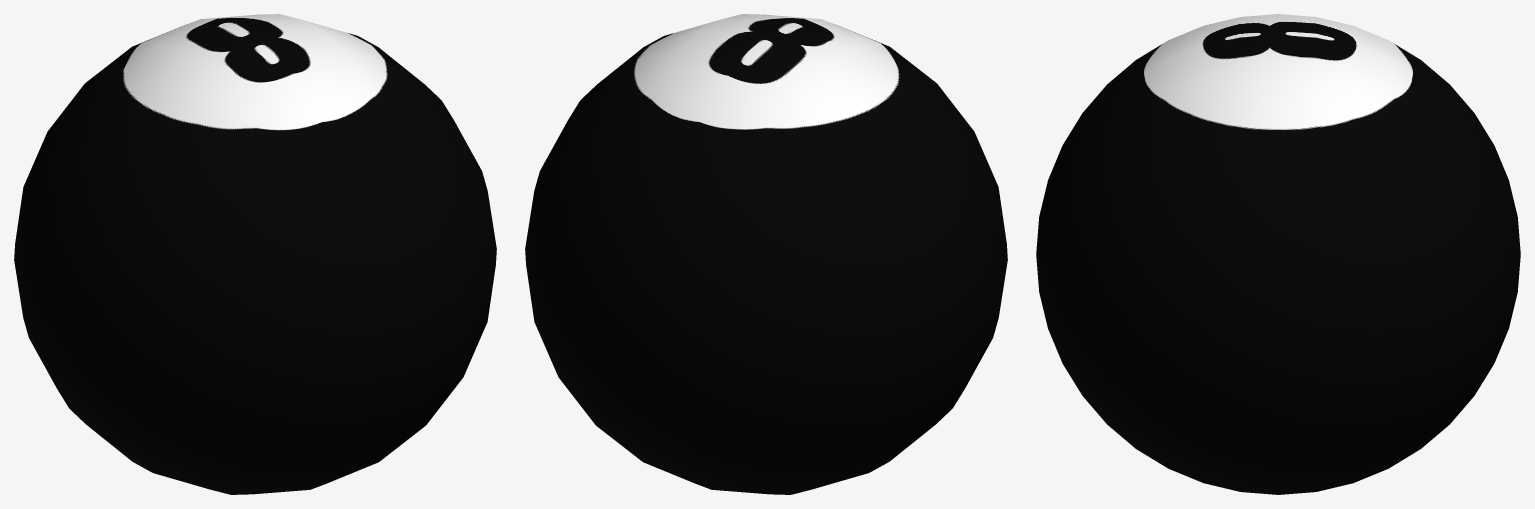
File: ball8.fbx
3 views of the same model, side by side, from view 1: azimuth 30°, elevation 25°; view 2: azimuth 150°, elevation 25°; view 3: azimuth 270°, elevation 25° (orthographic).
Visible parts, largest first — view 1: pSphere1; view 2: pSphere1; view 3: pSphere1.
Part boxes in pixels (<box>): pSphere1: <box>14,14,496,494</box>; pSphere1: <box>525,14,1007,494</box>; pSphere1: <box>1036,14,1520,494</box>.
Bounding box in the file's own units: 2 × 2 × 2.
